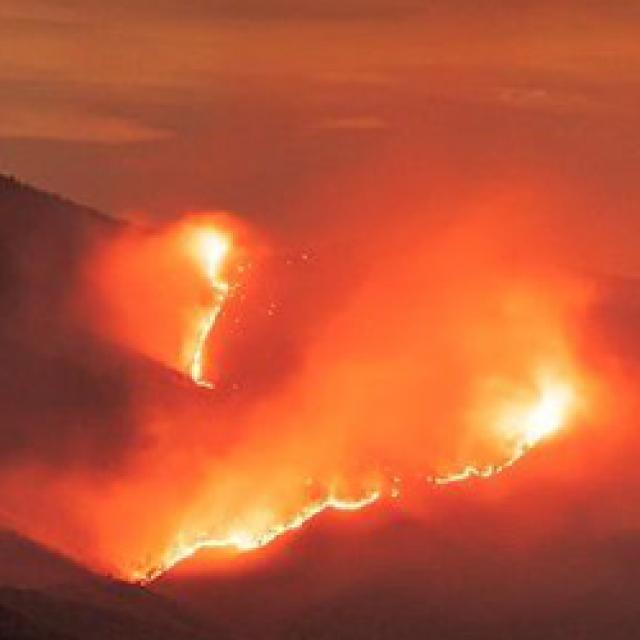Fire: (97, 471, 421, 609), (433, 368, 629, 497), (142, 210, 269, 394), (273, 427, 506, 520)
Smoke: (291, 89, 612, 393), (1, 398, 300, 528), (46, 191, 182, 339)
